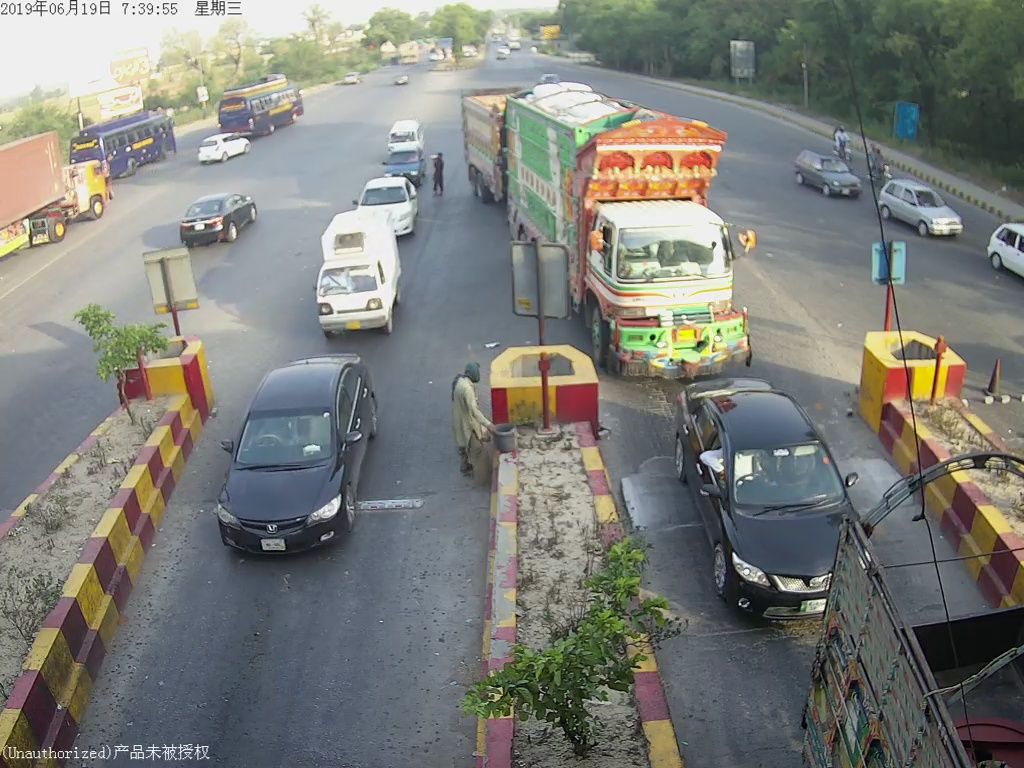Cat-1: (219, 359, 380, 559), (684, 386, 817, 623), (306, 217, 406, 347)
Cat-4: (499, 76, 765, 381)
